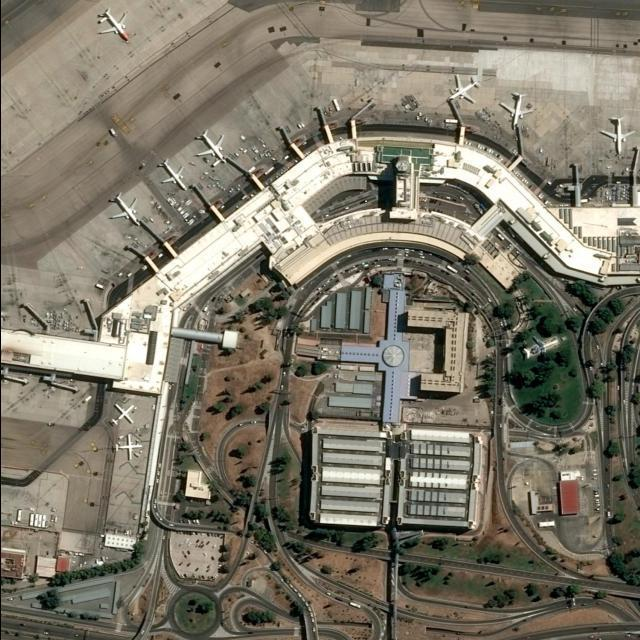Aircraft: (597, 114, 633, 158), (96, 11, 133, 45), (497, 92, 531, 128), (195, 130, 227, 167), (445, 74, 481, 106), (108, 195, 140, 228), (156, 159, 186, 193), (112, 435, 144, 461), (109, 402, 137, 430)
